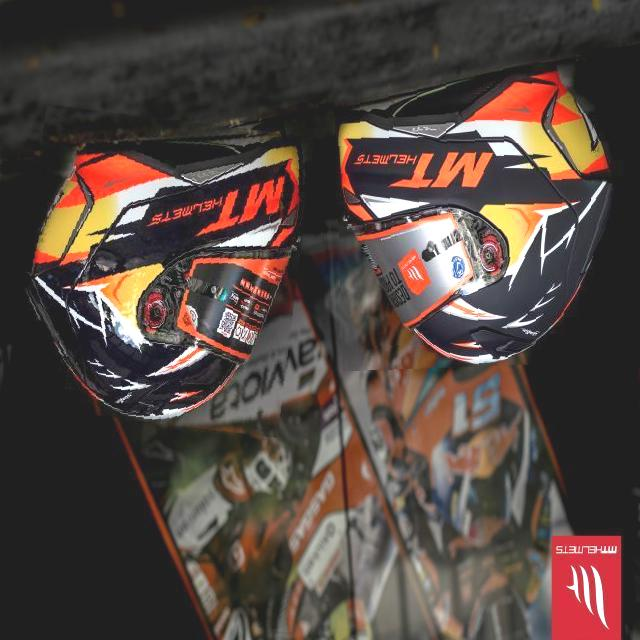helmet: (18, 112, 306, 430), (336, 62, 618, 368)
